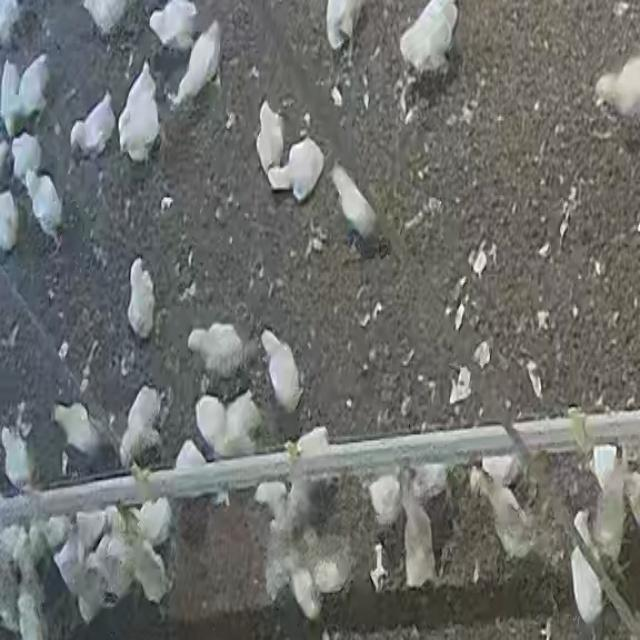chicken: (393, 498, 445, 590), (172, 20, 222, 110), (399, 1, 458, 76), (255, 325, 305, 410), (118, 64, 160, 162), (266, 134, 326, 201), (118, 385, 164, 467), (52, 401, 106, 468), (334, 167, 376, 250), (186, 321, 245, 378), (569, 533, 604, 627), (69, 94, 116, 160), (26, 172, 65, 248), (147, 0, 200, 50), (129, 540, 172, 601), (126, 256, 156, 341), (256, 98, 286, 182), (223, 392, 261, 457), (324, 1, 369, 52), (1, 424, 34, 489), (24, 52, 52, 120), (81, 0, 131, 37), (10, 132, 43, 186), (1, 53, 21, 135), (0, 188, 21, 254)
